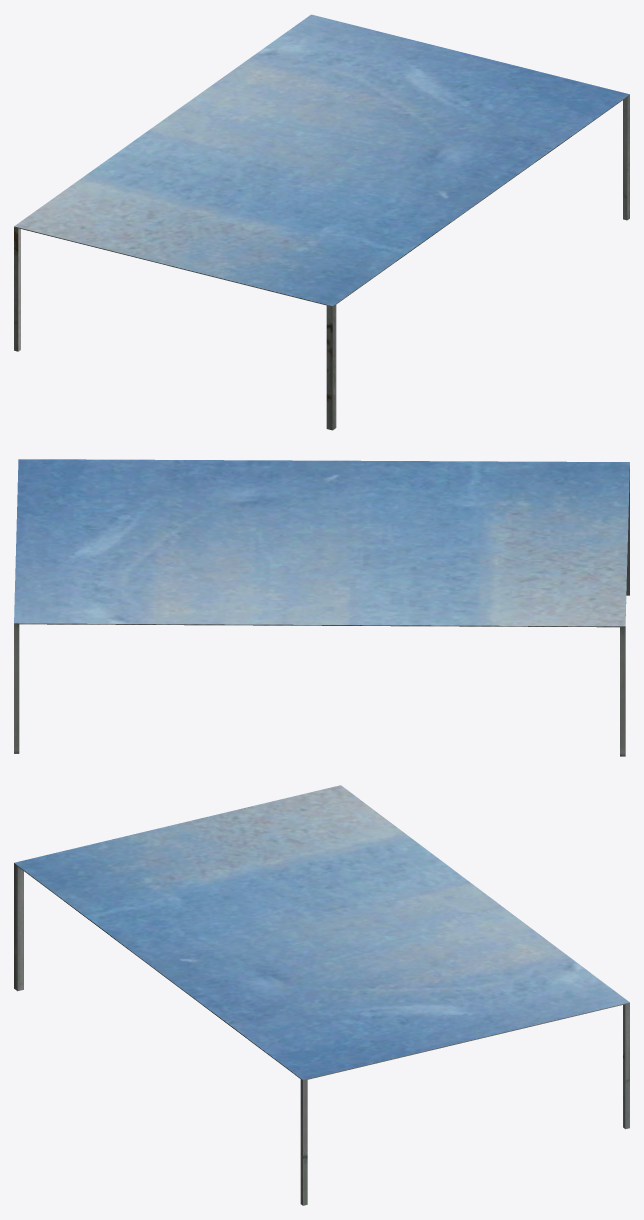
File: llmg_bld11.gltf
The picture shows the model from 3 angles, top to bottom: view 1: azimuth 30°, elevation 25°; view 2: azimuth 150°, elevation 25°; view 3: azimuth 270°, elevation 25°; orthographic projection. The views are drawn at different scales.
Parts seen in each view (by area): view 1: node2; view 2: node2; view 3: node2.
Boxes of the visible parts, bbox=[...] form: node2: bbox=[14, 14, 629, 430]; node2: bbox=[14, 459, 629, 756]; node2: bbox=[14, 785, 629, 1205].
Bounding box in the file's own units: 22.84 × 4.54 × 20.15.
